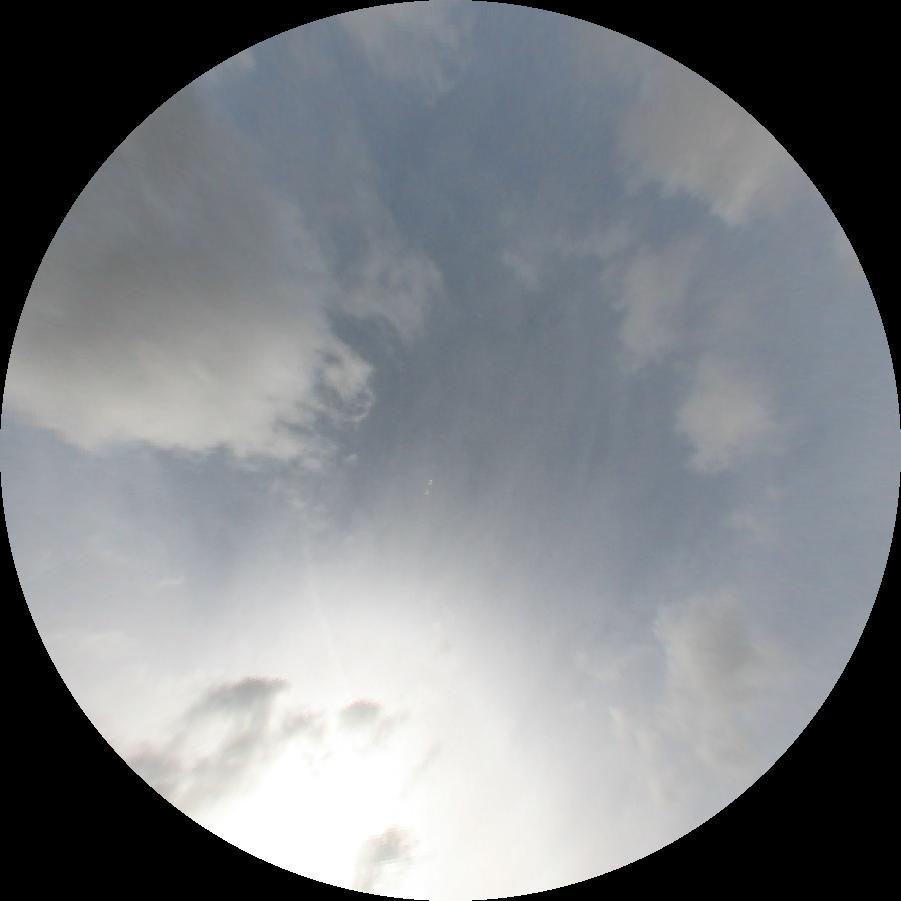sun: (219, 745, 395, 881)
